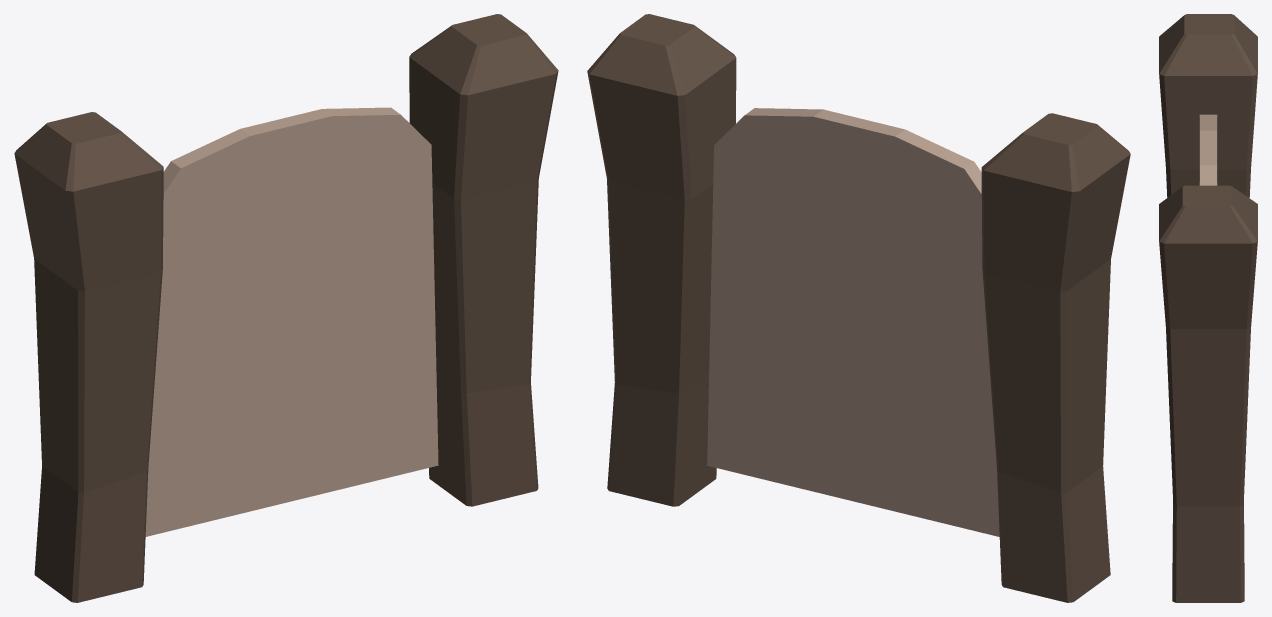
Rendered from FenceGate.fbx.
3 views of the same model, side by side, from view 1: azimuth 30°, elevation 25°; view 2: azimuth 150°, elevation 25°; view 3: azimuth 270°, elevation 25° (orthographic). The views are drawn at different scales.
Parts seen in each view (by area): view 1: Cube; view 2: Cube; view 3: Cube.
Boxes of the visible parts, left/top/right/bottom form: Cube: left=14, top=14, right=558, bottom=602; Cube: left=587, top=14, right=1130, bottom=602; Cube: left=1159, top=14, right=1257, bottom=602.
Bounding box in the file's own units: 121 × 106 × 24.18.
